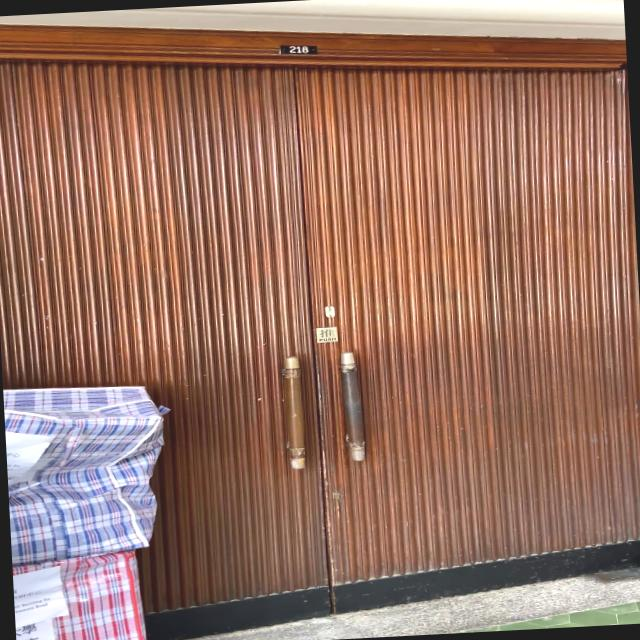room218: (277, 41, 322, 56)
